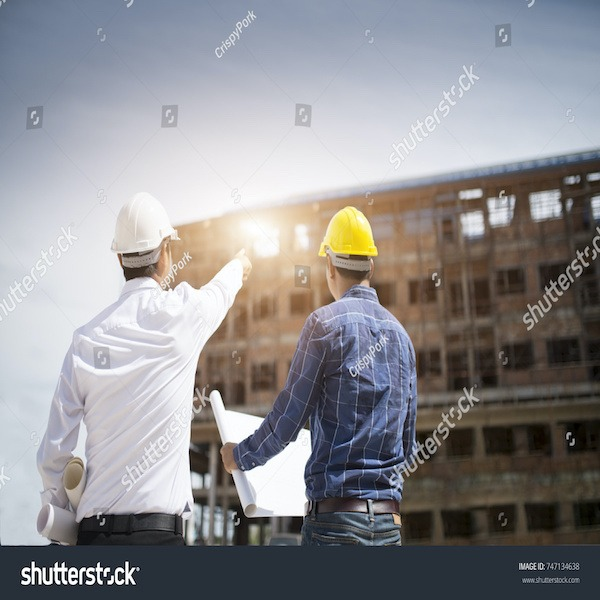helmet: (111, 191, 179, 250), (318, 208, 375, 257)
